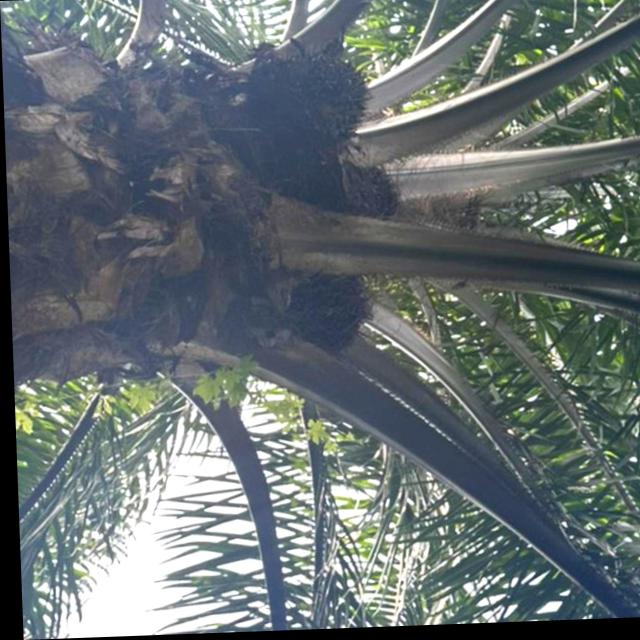almost: (292, 275, 374, 364)
